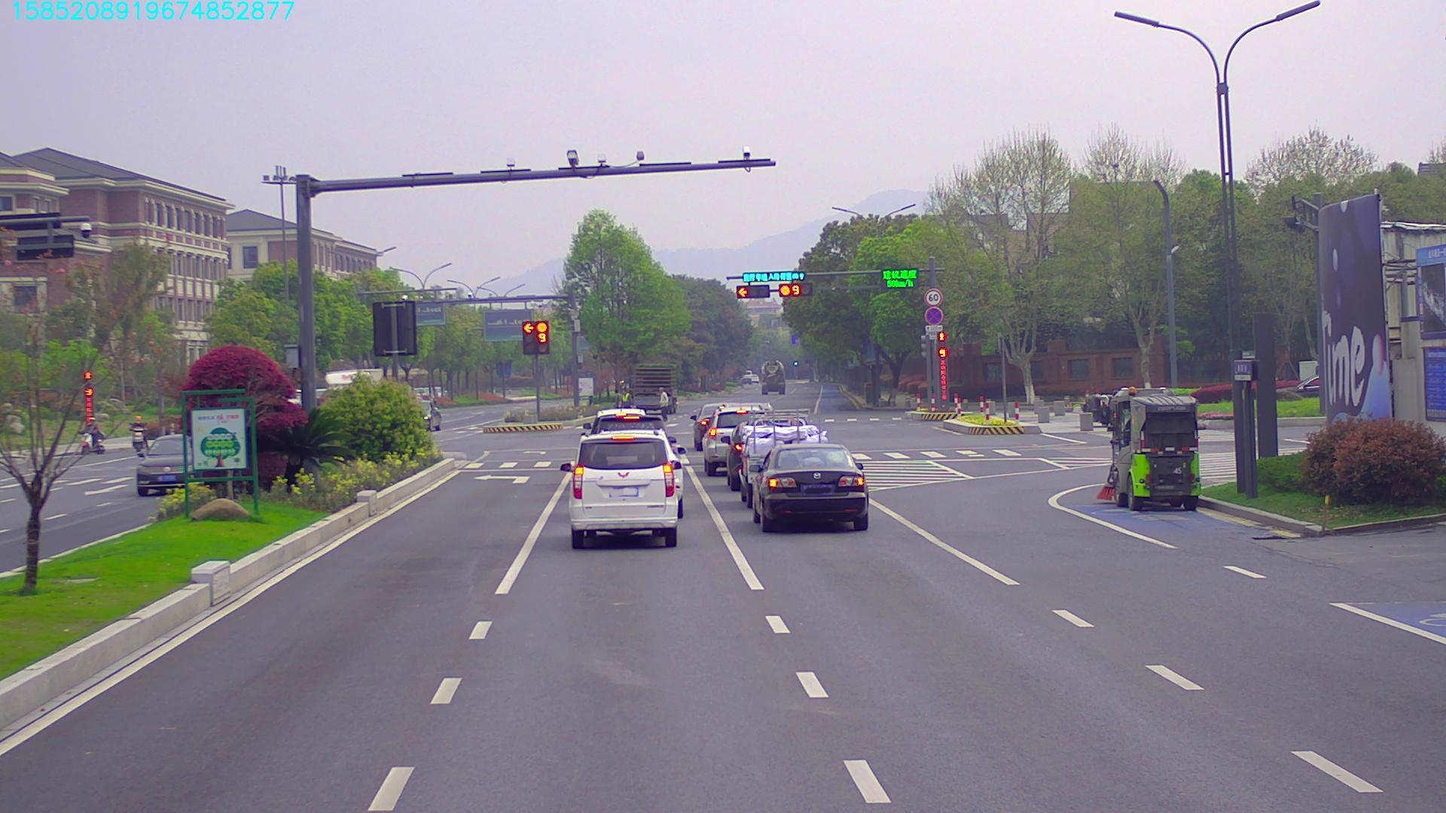red: (734, 285, 767, 302), (773, 284, 813, 297)
wait_on: (743, 270, 804, 284)
